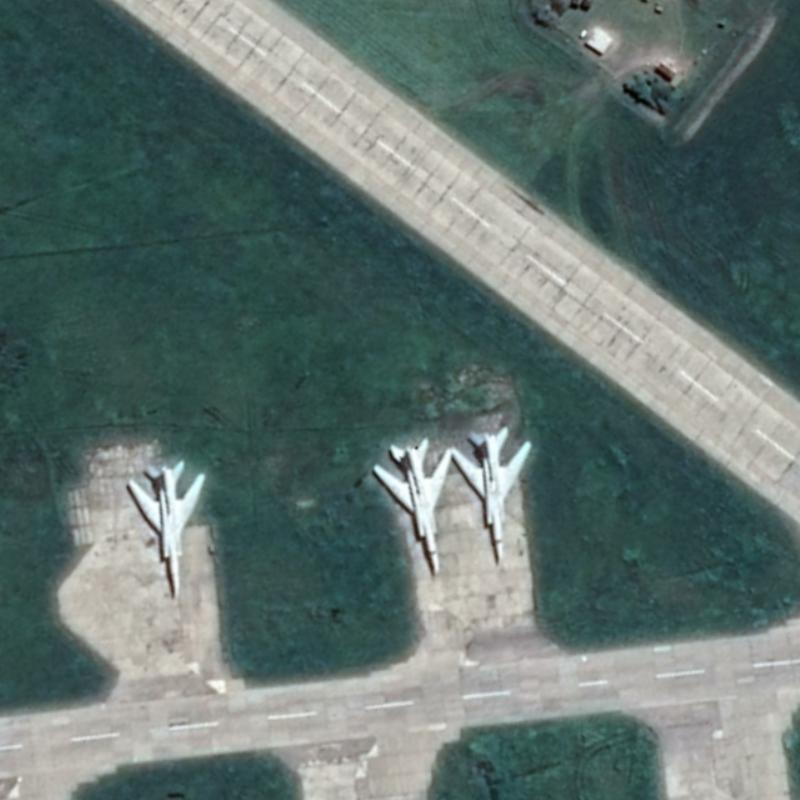A12: (448, 422, 534, 564), (369, 434, 453, 576), (124, 456, 207, 599)
